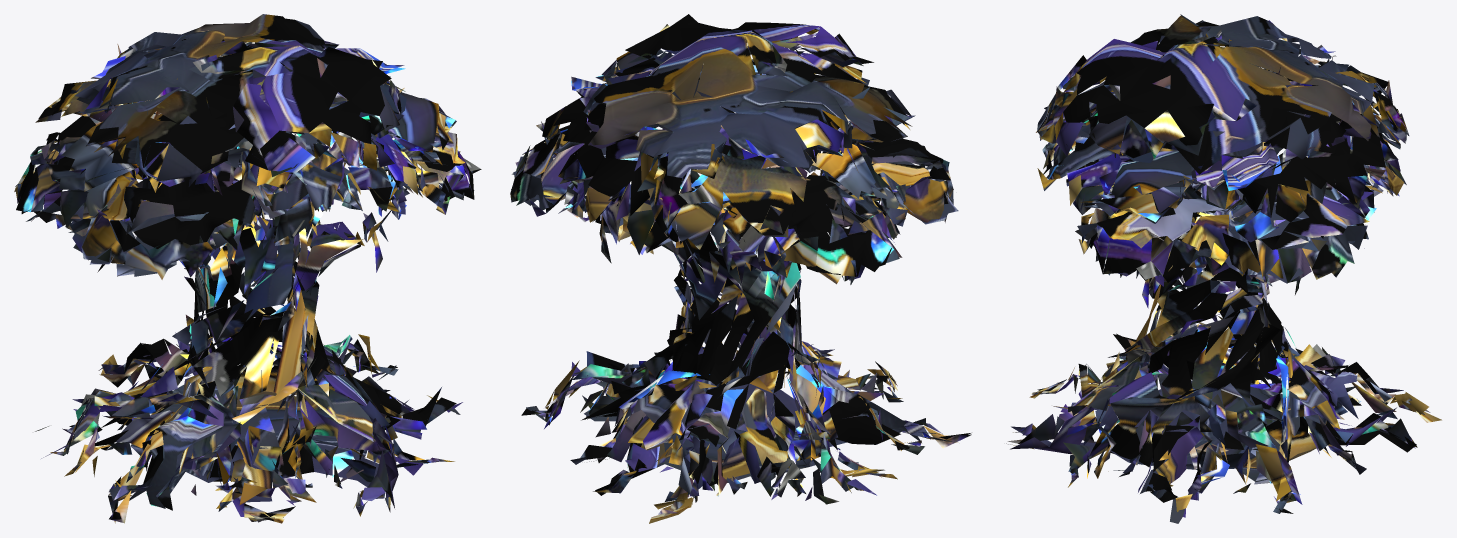
File: tower_eldercanopy_3d_LOD2.fbx
3 renders of one model, left to right at view 1: azimuth 30°, elevation 25°; view 2: azimuth 150°, elevation 25°; view 3: azimuth 270°, elevation 25°, orthographic. The views are drawn at different scales.
Visible parts, largest first — view 1: Mesh1.0; view 2: Mesh1.0; view 3: Mesh1.0.
Part boxes in pixels (box(x1,y1,x2,y2)): Mesh1.0: box(14, 14, 481, 523); Mesh1.0: box(510, 14, 971, 523); Mesh1.0: box(1006, 14, 1441, 523).
Size of the model in its own units: 128 by 127 by 128.
